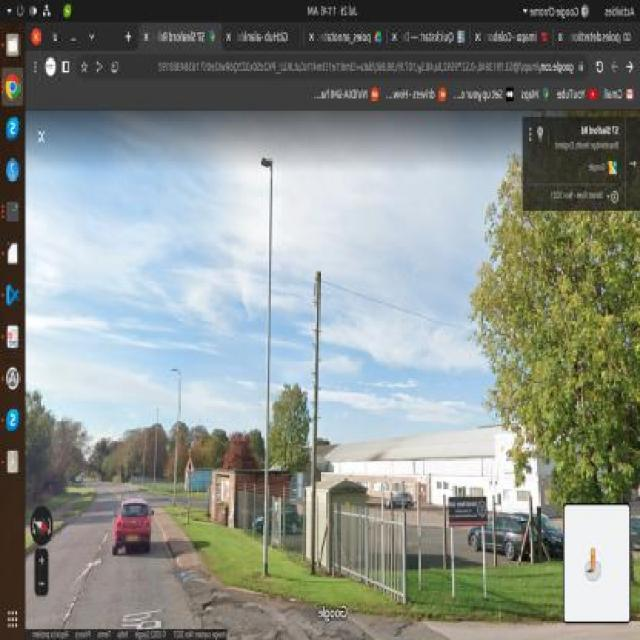pole: (242, 147, 280, 575), (305, 272, 330, 576), (165, 356, 183, 512)
